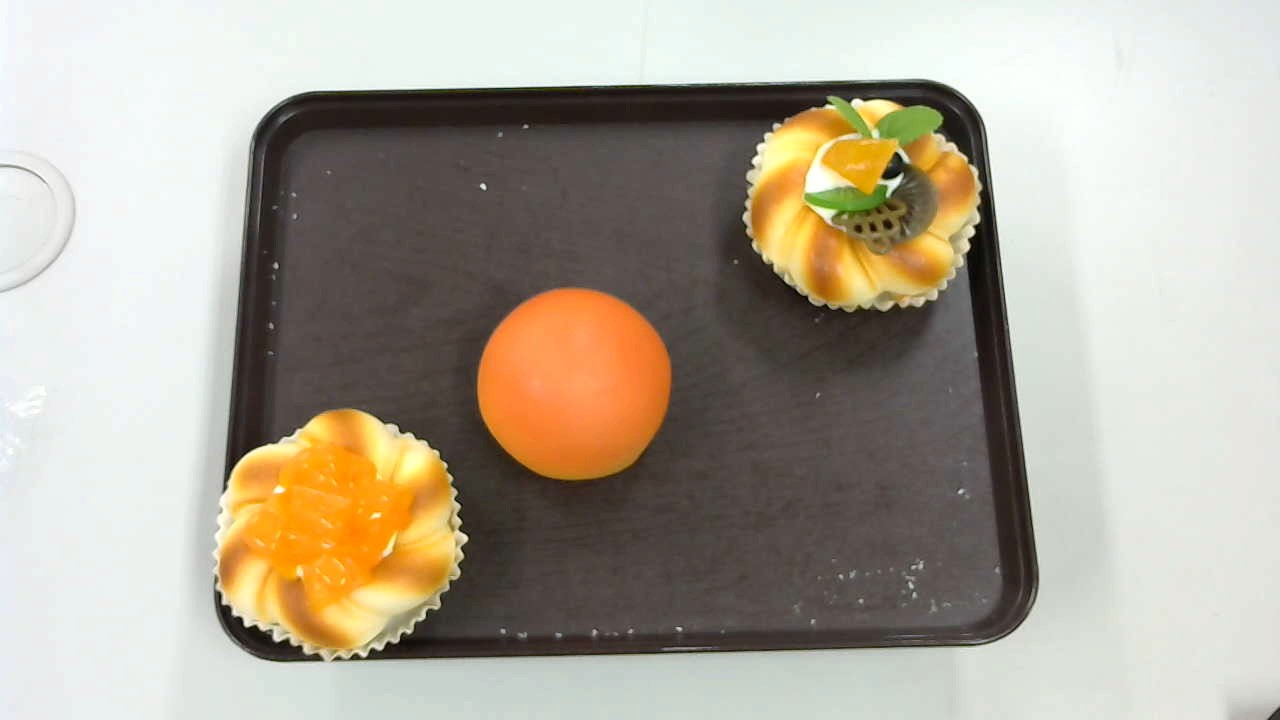bun: (477, 286, 671, 481)
fruit tart: (744, 94, 982, 308)
mango tart: (213, 407, 469, 660)
